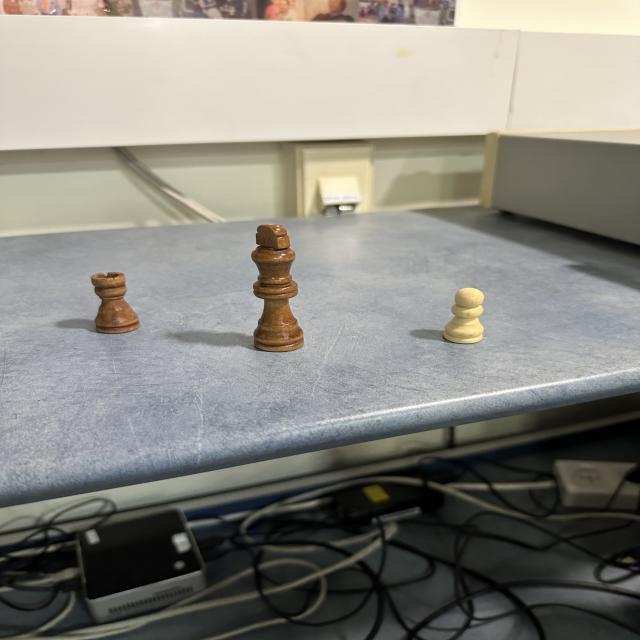Black-King: (250, 223, 305, 353)
Black-Rook: (89, 271, 142, 334)
White-Pawn: (442, 287, 485, 345)
